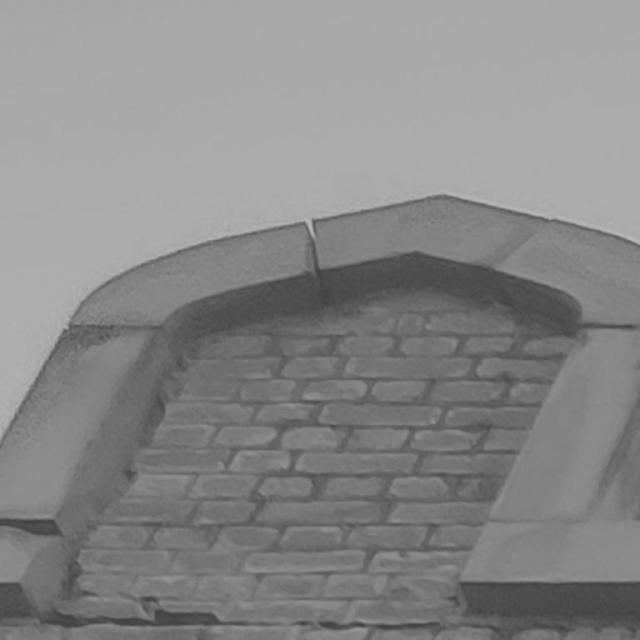crack: (41, 558, 637, 632)
